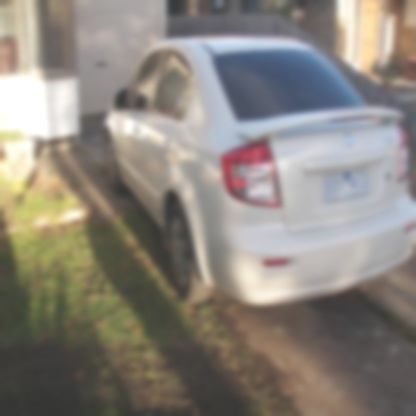Vehicle: (103, 29, 416, 308)
